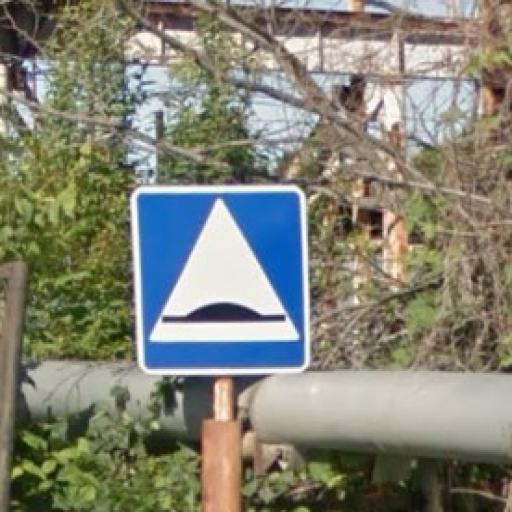traffic_sign: (131, 185, 314, 378)
